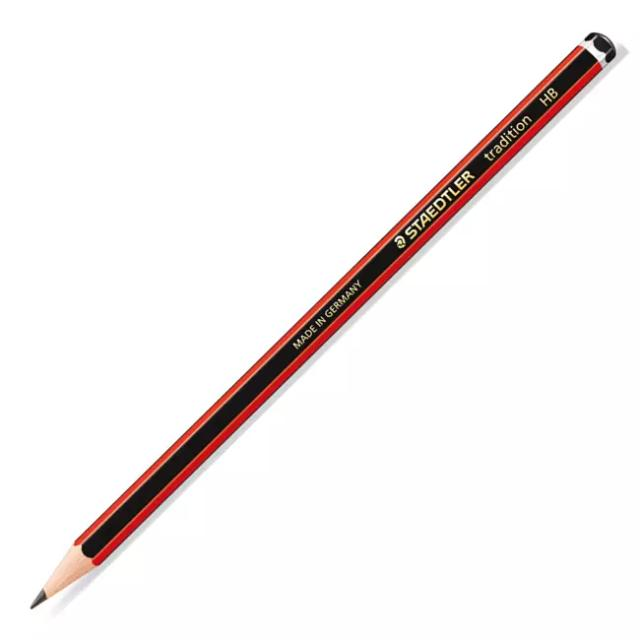pencil: (13, 8, 628, 618)
